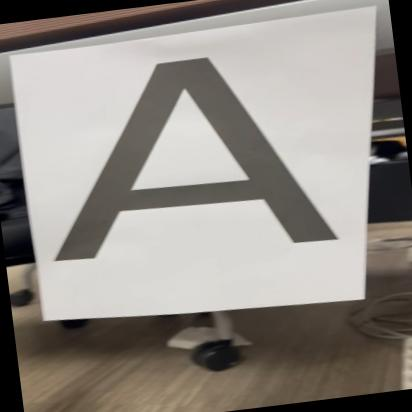seat: (22, 32, 358, 278)
